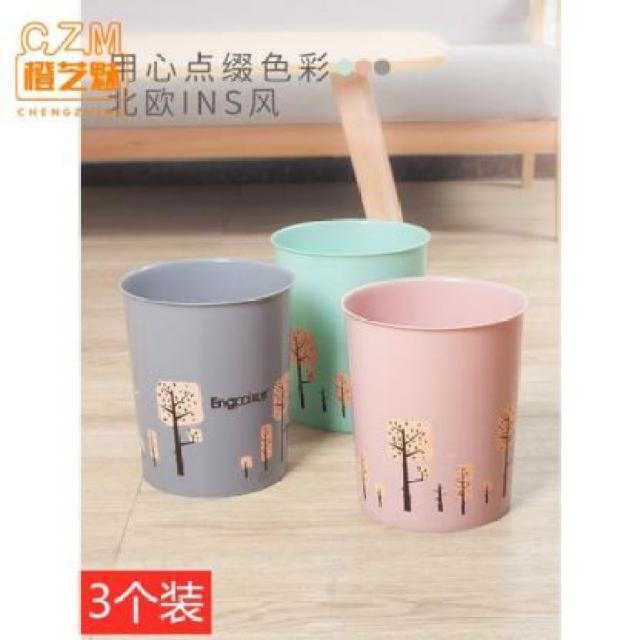dustbin: (338, 272, 530, 537), (117, 256, 301, 502), (269, 217, 434, 437)
